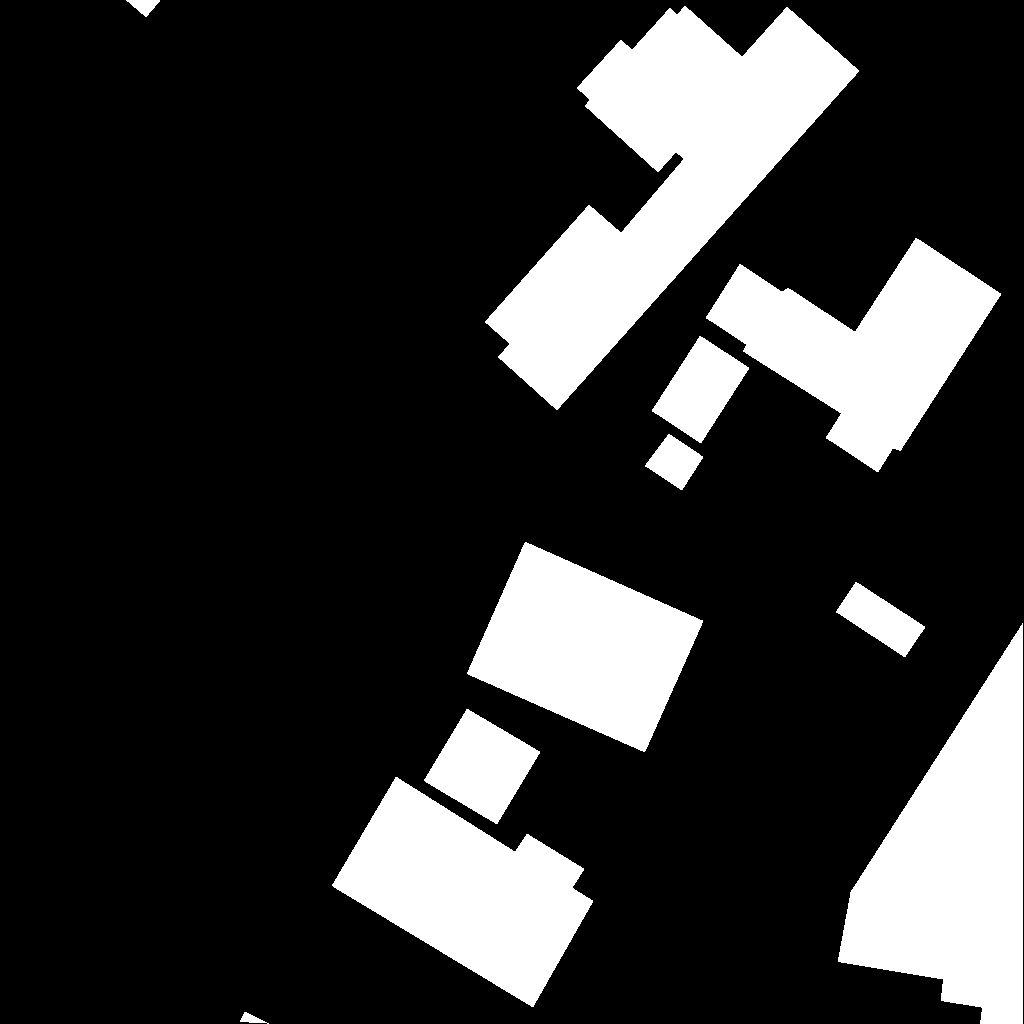building: (485, 6, 860, 411), (838, 623, 1024, 1024), (706, 238, 1002, 473), (332, 777, 594, 1008), (467, 542, 704, 753), (424, 709, 541, 825), (652, 336, 750, 444), (836, 582, 926, 658), (645, 434, 704, 491), (126, 0, 162, 18), (240, 1012, 270, 1024)
